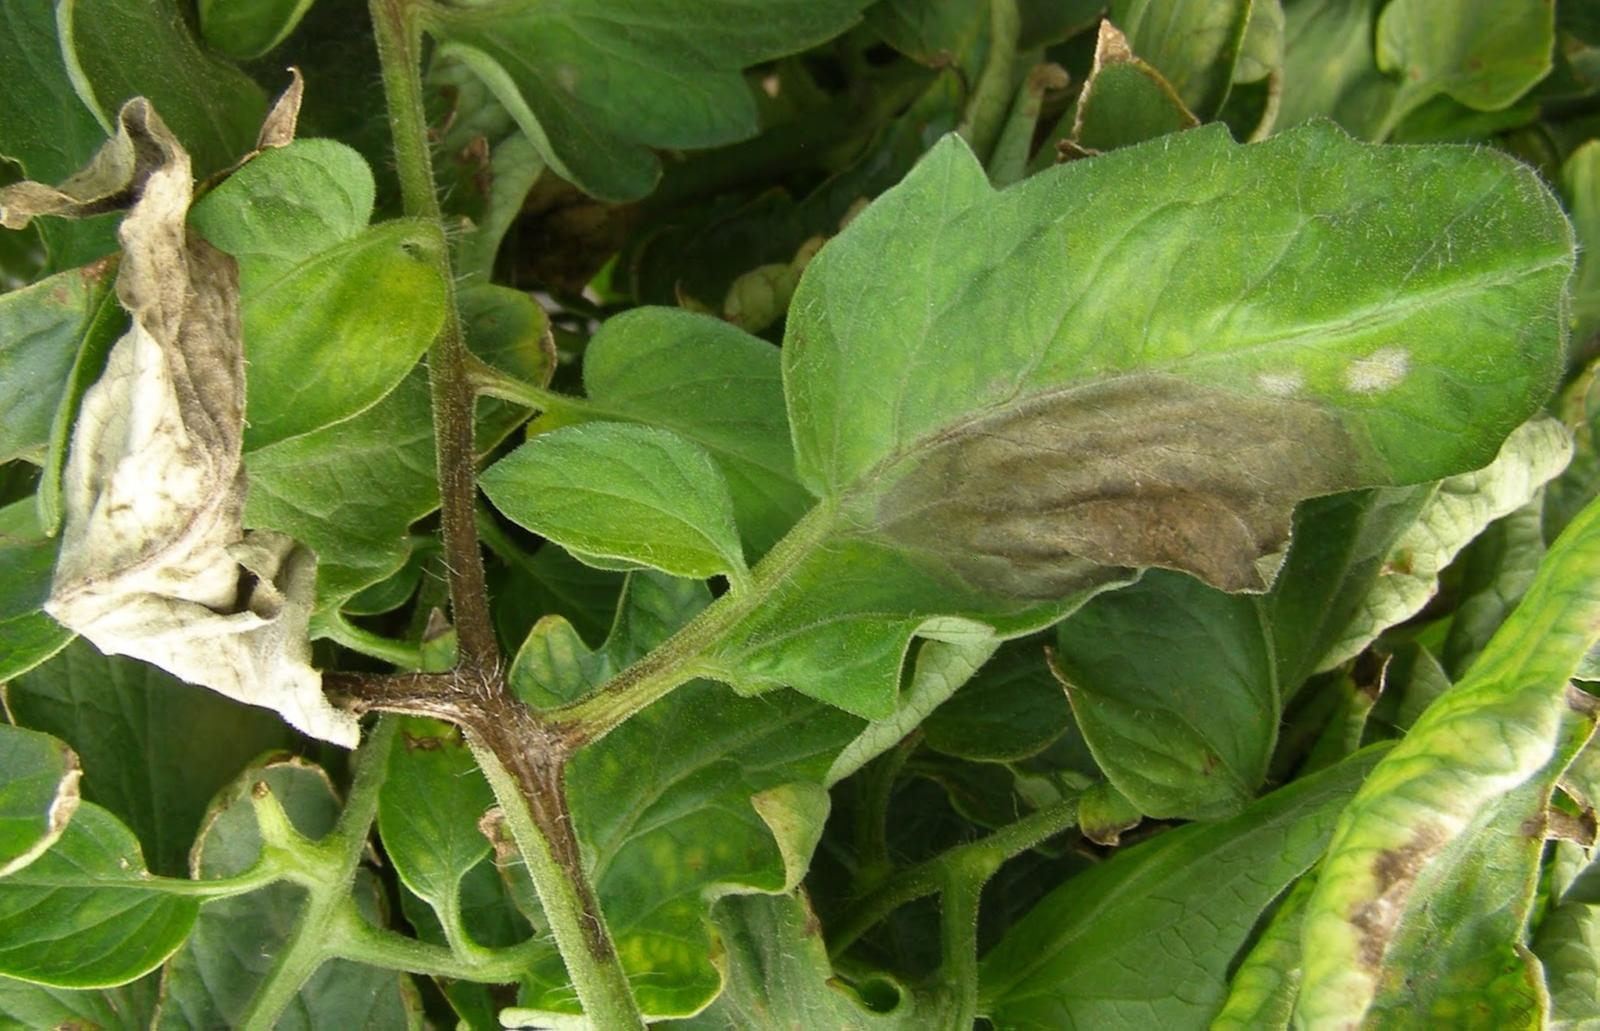Tomato mold leaf: (762, 117, 1575, 719), (469, 410, 757, 601)
